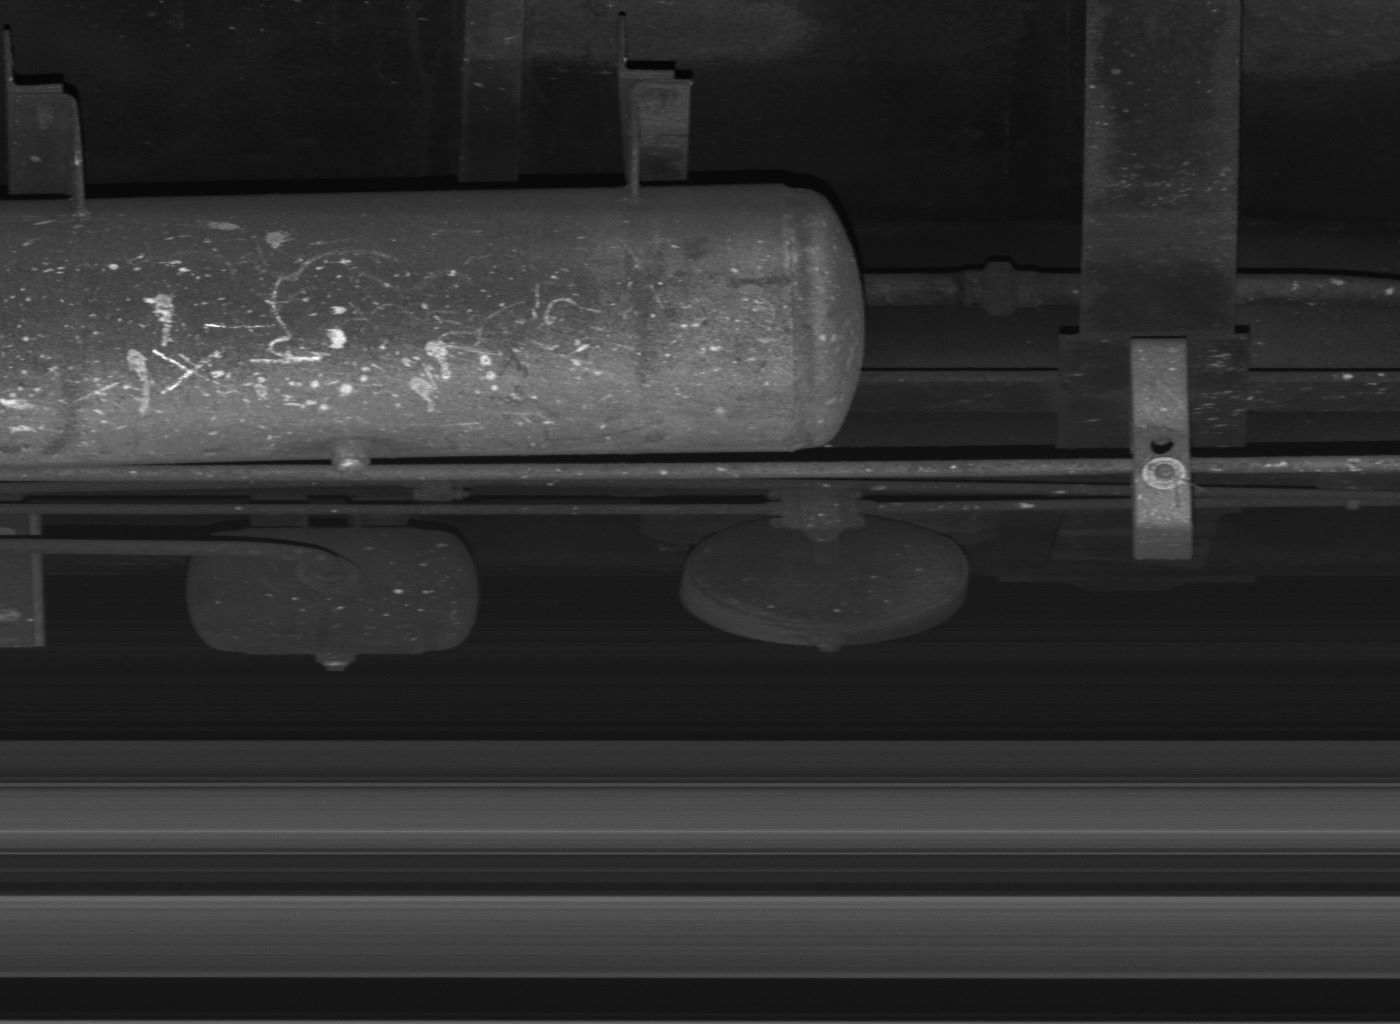normal: (1128, 336, 1193, 559)
